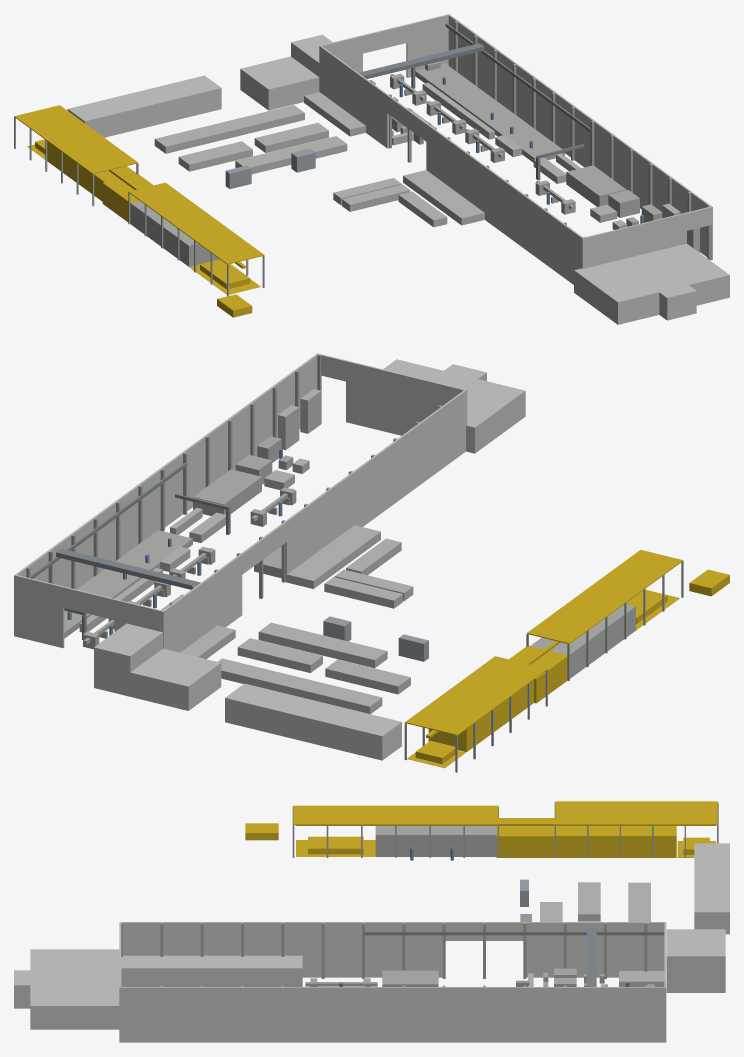
The model's file is comar_ALT2.glb.
3 renders of one model, top to bottom at view 1: azimuth 30°, elevation 25°; view 2: azimuth 150°, elevation 25°; view 3: azimuth 270°, elevation 25°, orthographic. The views are drawn at different scales.
Parts seen in each view (by area): view 1: ALT2_N1, ALT2_ADM, ALT2_A11, ALT2_CUBp, ALT2_CUBg, ALT2_DBU, ALT2_A7, ALT2_PIN, ALT2_P3, ALT2_A10, ALT2_P4, ALT2_PGR (+18 smaller); view 2: ALT2_N1, ALT2_A11, ALT2_CUBp, ALT2_CUBg, ALT2_ADM, ALT2_DBU, ALT2_A7, ALT2_DPI, ALT2_A10, ALT2_A2, ALT2_PIN, ALT2_PGR (+18 smaller); view 3: ALT2_N1, ALT2_ADM, ALT2_CUBp, ALT2_CUBg, ALT2_GRA, ALT2_PIN, ALT2_DPI, ALT2_A11, ALT2_N2a, ALT2_SGR2, ALT2_PGR, ALT2_N2b (+12 smaller).
Boxes of the visible parts, <box> form: ALT2_N1: <box>319,14,712,284</box>; ALT2_ADM: <box>574,243,729,324</box>; ALT2_A11: <box>67,75,221,137</box>; ALT2_CUBp: <box>128,182,264,296</box>; ALT2_CUBg: <box>14,105,138,206</box>; ALT2_DBU: <box>240,56,319,110</box>; ALT2_A7: <box>154,105,304,153</box>; ALT2_PIN: <box>130,201,219,266</box>; ALT2_P3: <box>472,105,564,162</box>; ALT2_A10: <box>403,170,484,225</box>; ALT2_P4: <box>415,63,501,114</box>; ALT2_PGR: <box>358,23,591,132</box>; ALT2_N1: <box>14,353,467,652</box>; ALT2_A11: <box>225,683,401,760</box>; ALT2_CUBp: <box>526,549,683,680</box>; ALT2_CUBg: <box>404,656,547,772</box>; ALT2_ADM: <box>346,359,525,453</box>; ALT2_DBU: <box>130,648,221,710</box>; ALT2_A7: <box>218,658,382,713</box>; ALT2_DPI: <box>94,623,162,696</box>; ALT2_A10: <box>286,525,380,588</box>; ALT2_A2: <box>258,622,387,668</box>; ALT2_PIN: <box>530,604,635,678</box>; ALT2_PGR: <box>28,462,200,589</box>; ALT2_N1: <box>119,922,666,1042</box>; ALT2_ADM: <box>30,949,119,1029</box>; ALT2_CUBp: <box>292,805,498,857</box>; ALT2_CUBg: <box>554,801,718,857</box>; ALT2_GRA: <box>556,826,676,857</box>; ALT2_PIN: <box>375,826,496,856</box>; ALT2_DPI: <box>666,940,725,992</box>; ALT2_A11: <box>694,843,729,934</box>; ALT2_N2a: <box>121,955,199,986</box>; ALT2_SGR2: <box>496,818,554,857</box>; ALT2_PGR: <box>363,927,664,986</box>; ALT2_N2b: <box>242,955,302,986</box>.
Size of the model in its own units: 62.2 by 7.5 by 88.74.
